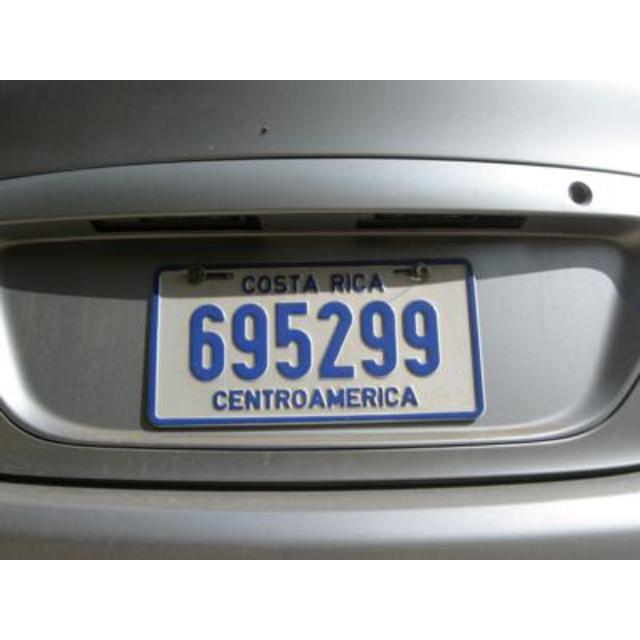plate: (155, 268, 473, 416)
